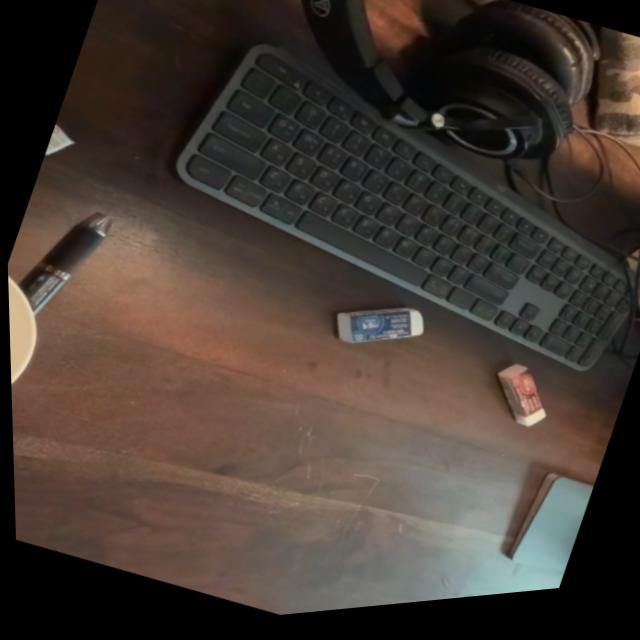blue: (313, 281, 440, 387)
red: (469, 359, 576, 456)
